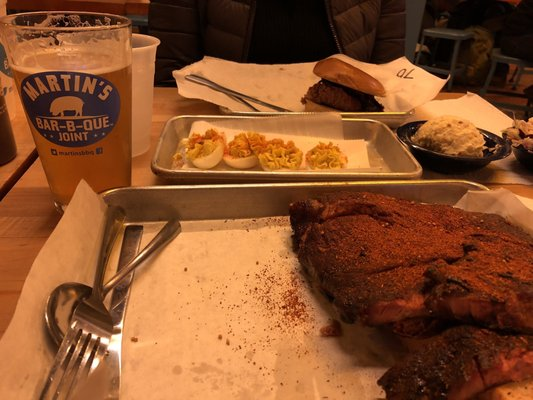burger: (37, 218, 183, 400)
pizza: (0, 10, 135, 216), (130, 33, 160, 158)
salad: (43, 282, 91, 353)
sandwich: (177, 73, 310, 114)
